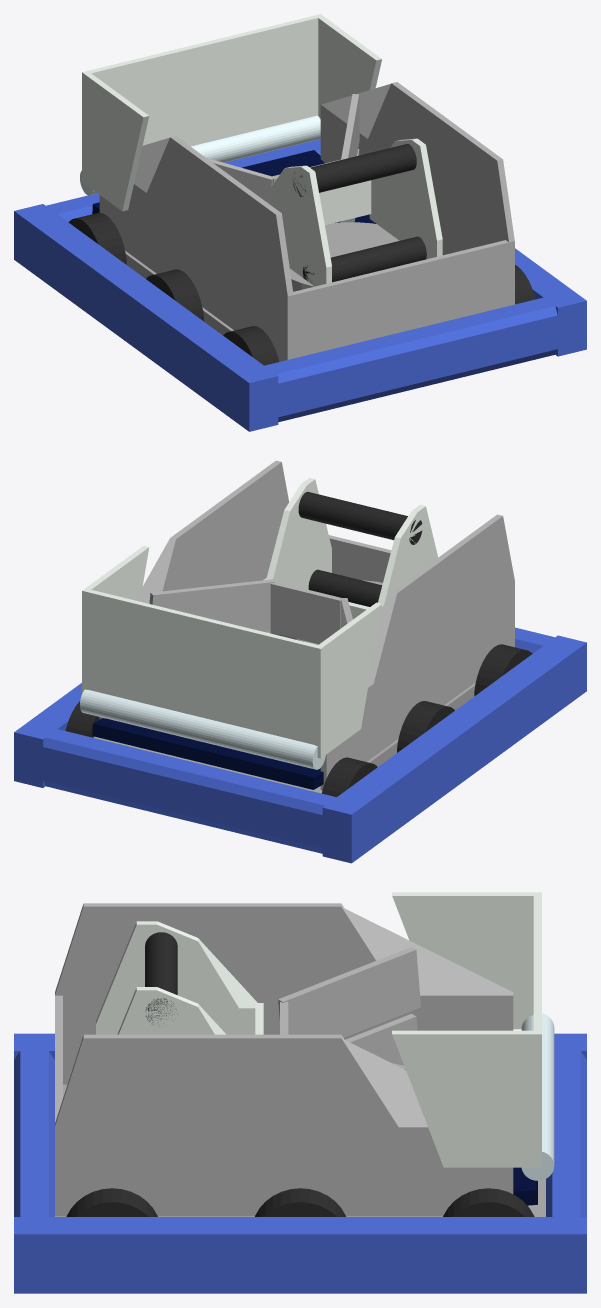
The model's file is V2Robot.fbx.
3 views of the same model, one above another, from view 1: azimuth 30°, elevation 25°; view 2: azimuth 150°, elevation 25°; view 3: azimuth 270°, elevation 25° (orthographic). The views are drawn at different scales.
Visible parts, largest first — view 1: RightFrame, Cube.005, BackBoard, FrontFrame, LeftFrame, Cube.001, Cube.006, LeftGuard, LeftPlate, RightPlate, RightGuard, Roller (+14 smaller); view 2: BackBoard, RightFrame, Cube.005, LeftFrame, Cube.003, Cube.004, LeftGuard, Roller, Conveyor, LeftPlate, LTopGuard, TopGuard (+12 smaller); view 3: LeftFrame, Cube.002, RightFrame, RightGuard, LeftGuard, RightPlate, RTopGuard, LeftPlate, Cube.006, Cube.001, Cube.003, Cube.004 (+11 smaller).
Boxes of the visible parts, <box> form: RightFrame: <box>99,136,293,361</box>; Cube.005: <box>14,204,278,431</box>; BackBoard: <box>85,14,320,146</box>; FrontFrame: <box>291,240,508,358</box>; LeftFrame: <box>320,82,514,305</box>; Cube.001: <box>404,297,557,388</box>; Cube.006: <box>264,331,417,422</box>; LeftGuard: <box>82,71,149,211</box>; LeftPlate: <box>369,138,442,259</box>; RightPlate: <box>263,165,331,286</box>; RightGuard: <box>318,14,381,118</box>; Roller: <box>80,115,320,195</box>; BackBoard: <box>85,589,320,745</box>; RightFrame: <box>320,514,514,790</box>; Cube.005: <box>322,635,586,863</box>; LeftFrame: <box>99,460,288,719</box>; Cube.003: <box>43,729,196,820</box>; Cube.004: <box>183,763,336,853</box>; LeftGuard: <box>315,602,381,758</box>; Roller: <box>80,689,325,769</box>; Conveyor: <box>92,718,323,789</box>; LeftPlate: <box>263,478,331,589</box>; LTopGuard: <box>149,579,274,631</box>; TopGuard: <box>270,581,340,644</box>; LeftFrame: <box>55,1034,513,1216</box>; Cube.002: <box>14,1217,586,1293</box>; RightFrame: <box>55,903,513,1084</box>; RightGuard: <box>392,1030,541,1167</box>; LeftGuard: <box>392,892,541,1029</box>; RightPlate: <box>96,921,257,1034</box>; RTopGuard: <box>278,947,420,1037</box>; LeftPlate: <box>117,987,226,1034</box>; Cube.006: <box>14,1051,54,1142</box>; Cube.001: <box>14,1134,54,1216</box>; Cube.003: <box>546,1134,586,1216</box>; Cube.004: <box>554,1051,586,1142</box>.
Size of what is drawn, in the model's own units: 580 by 340 by 700.
